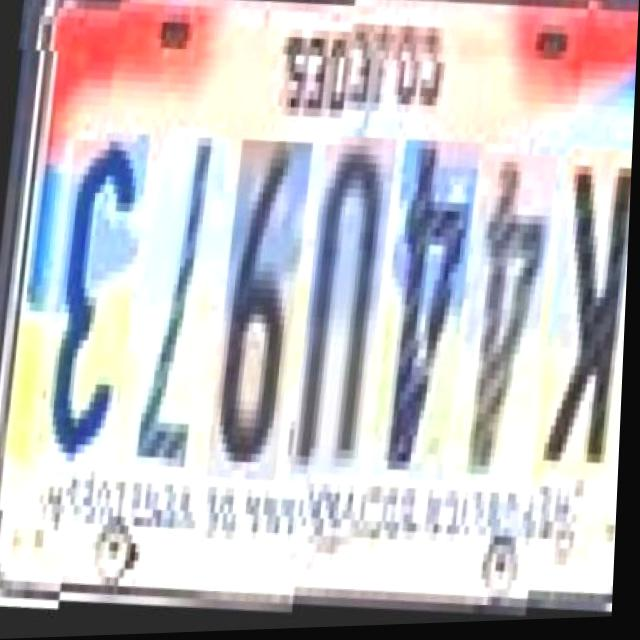3: (40, 140, 145, 486)
4: (370, 154, 475, 499), (449, 166, 554, 503)
7: (128, 145, 223, 489)
9: (208, 148, 308, 493)
k: (534, 170, 633, 507)
u: (291, 151, 391, 496)
